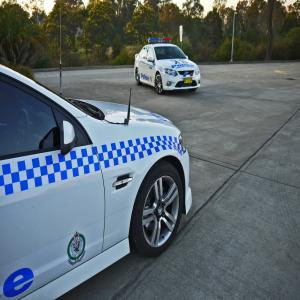Vehicle-registration-plate: (184, 78, 193, 85)
